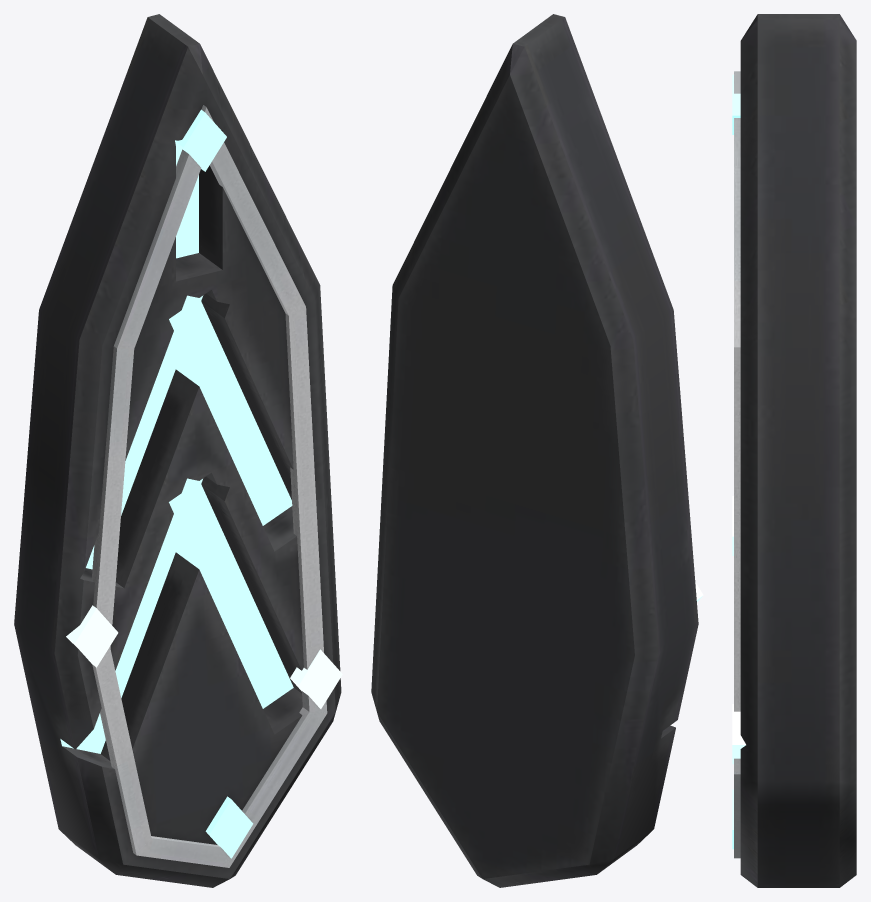
File: keen.glb
The picture shows the model from 3 angles, left to right: view 1: azimuth 30°, elevation 25°; view 2: azimuth 150°, elevation 25°; view 3: azimuth 270°, elevation 25°; orthographic projection.
Parts seen in each view (by area): view 1: rune_iron, rune_inlay_t3, glow_rune, glow_rune_t3, glow_rune_t2; view 2: rune_iron; view 3: rune_iron, rune_inlay_t3, glow_rune_t3, glow_rune_t2.
Part boxes in pixels (x1=…): rune_iron: x1=14, y1=14, x2=341, y2=887; rune_inlay_t3: x1=91, y1=105, x2=327, y2=867; glow_rune: x1=60, y1=142, x2=293, y2=753; glow_rune_t3: x1=66, y1=605, x2=342, y2=708; glow_rune_t2: x1=175, y1=109, x2=253, y2=858; rune_iron: x1=371, y1=14, x2=698, y2=887; rune_iron: x1=740, y1=14, x2=856, y2=887; rune_inlay_t3: x1=734, y1=71, x2=740, y2=858; glow_rune_t3: x1=732, y1=496, x2=745, y2=764; glow_rune_t2: x1=732, y1=74, x2=740, y2=849.
Bounding box in the file's own units: 0.3464 × 0.9781 × 0.1288.
Materials: 5 (2 with a texture image).
